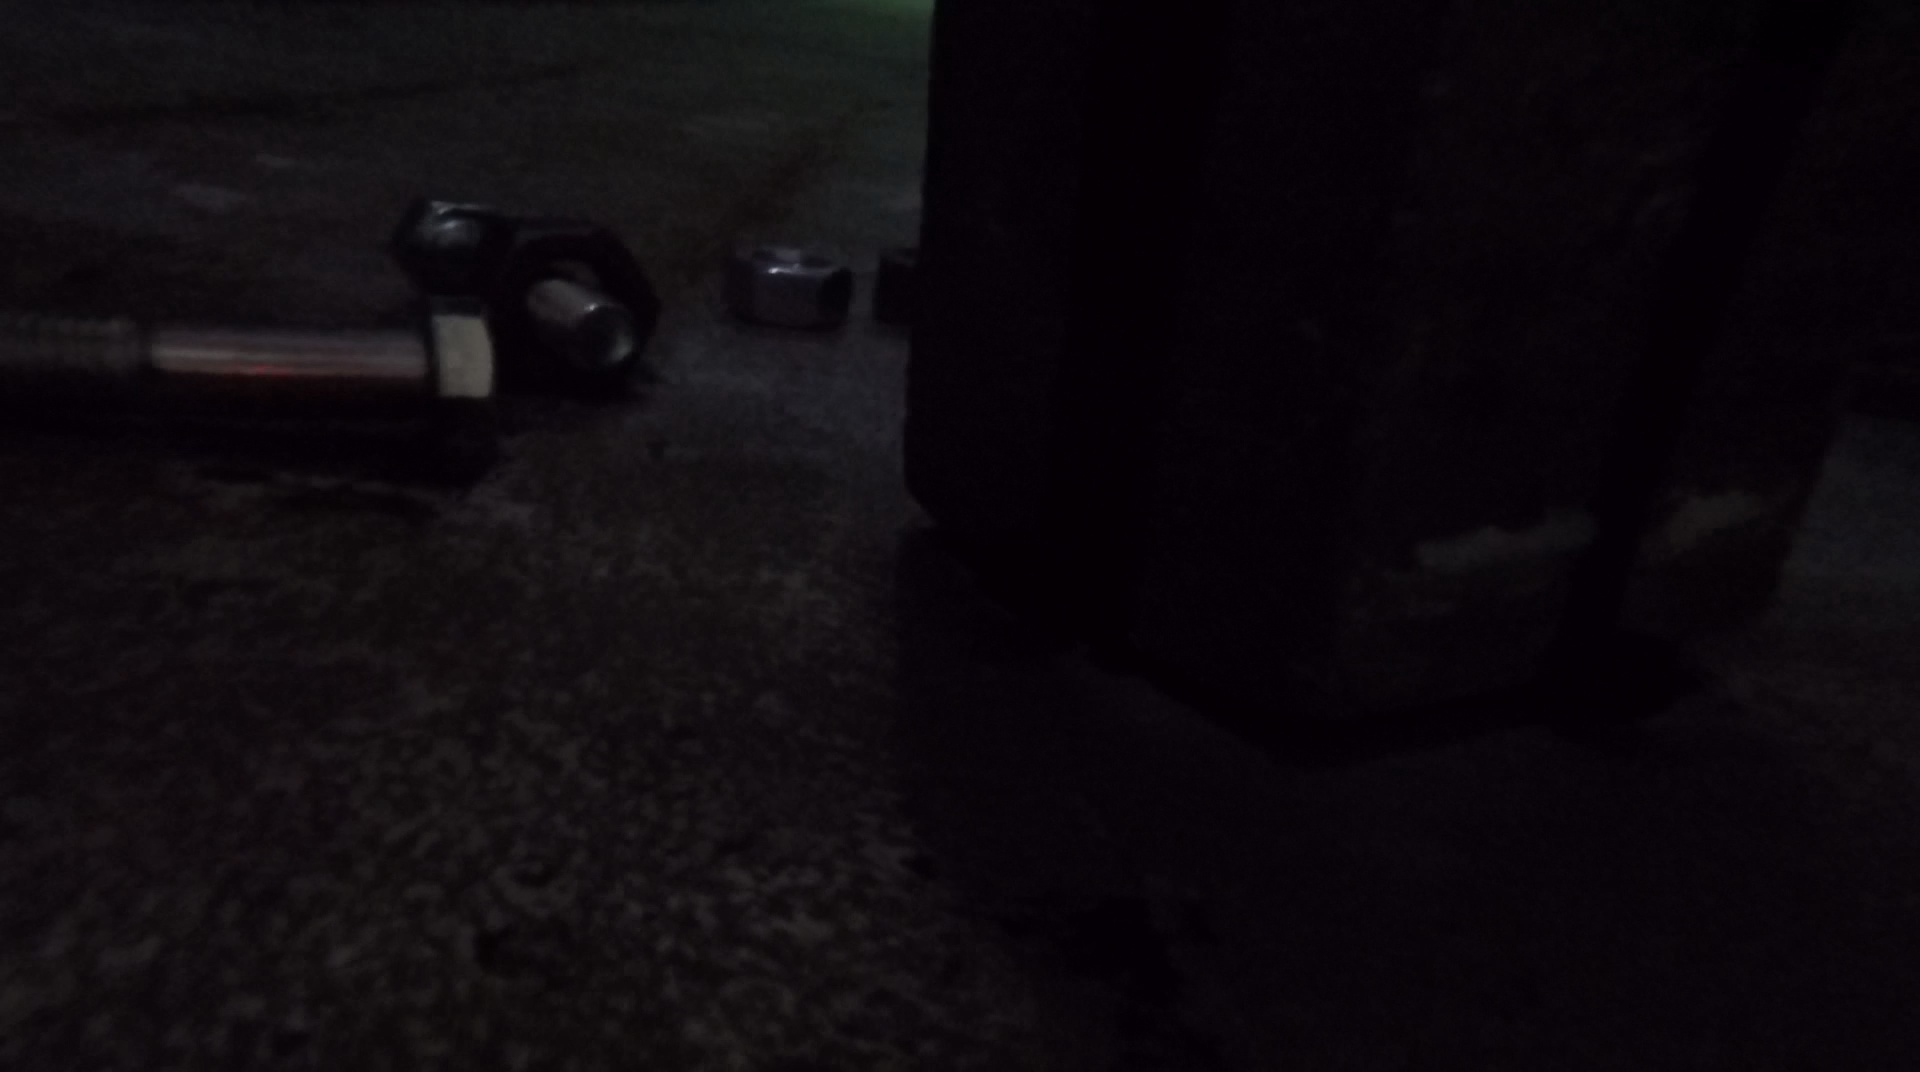bolt: (1, 291, 496, 458), (382, 193, 637, 368)
led_block: (901, 1, 1917, 756)
nut: (475, 215, 663, 406), (725, 243, 856, 334), (872, 245, 915, 323)
